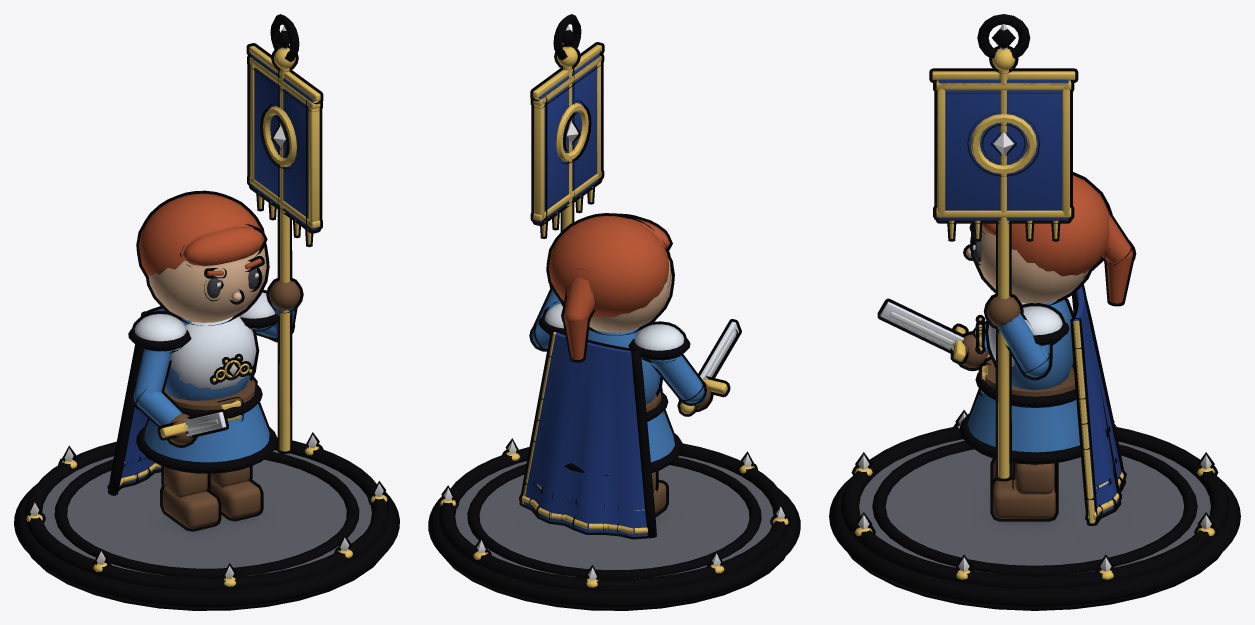
File: banner_bearer_s5.fbx
3 views of the same model, side by side, from view 1: azimuth 30°, elevation 25°; view 2: azimuth 150°, elevation 25°; view 3: azimuth 270°, elevation 25° (orthographic). The views are drawn at different scales.
Parts seen in each view (by area): view 1: banner_bearer_s5; view 2: banner_bearer_s5; view 3: banner_bearer_s5.
Part boxes in pixels (x1=…): banner_bearer_s5: x1=14, y1=14, x2=399, y2=610; banner_bearer_s5: x1=428, y1=14, x2=800, y2=610; banner_bearer_s5: x1=829, y1=14, x2=1240, y2=610.
Size of the model in its own units: 1.58 by 2.32 by 1.58.
2 materials, 1 textured.
